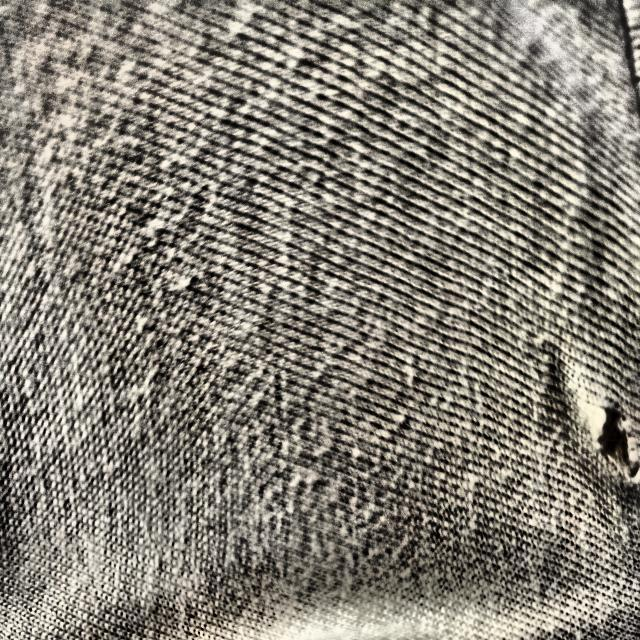cut: (577, 385, 640, 498)
